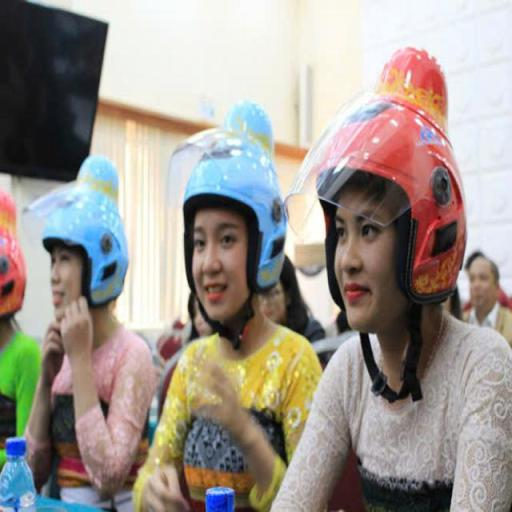with helmet: (282, 40, 488, 302), (163, 72, 291, 298), (23, 160, 142, 306), (2, 164, 28, 322)
